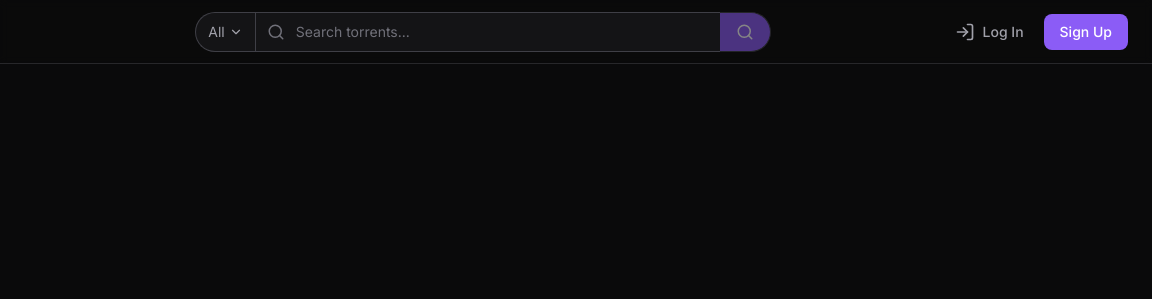
Scenario: Header Component › Category Dropdown › should open category dropdown when clicked
Click the button "All" at [225, 32], box [195,12,255,52]
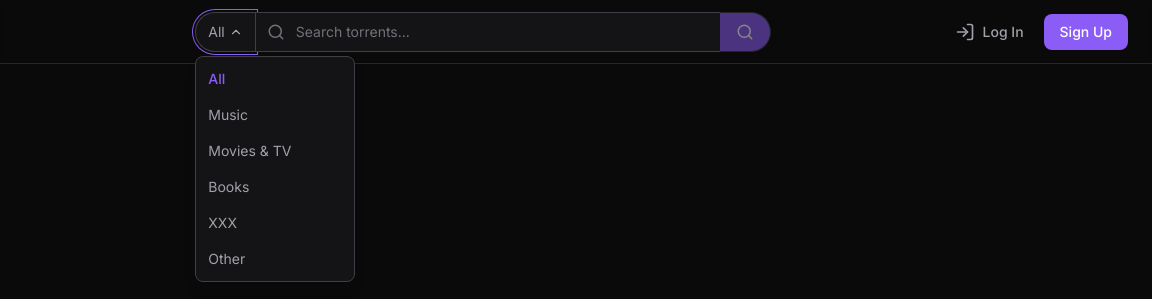
Expected: the button "Music" is shown, [196,96,354,132]
Expected: the button "Movies & TV" is shown, [196,132,354,168]
Expected: the button "Books" is shown, [196,168,354,204]
